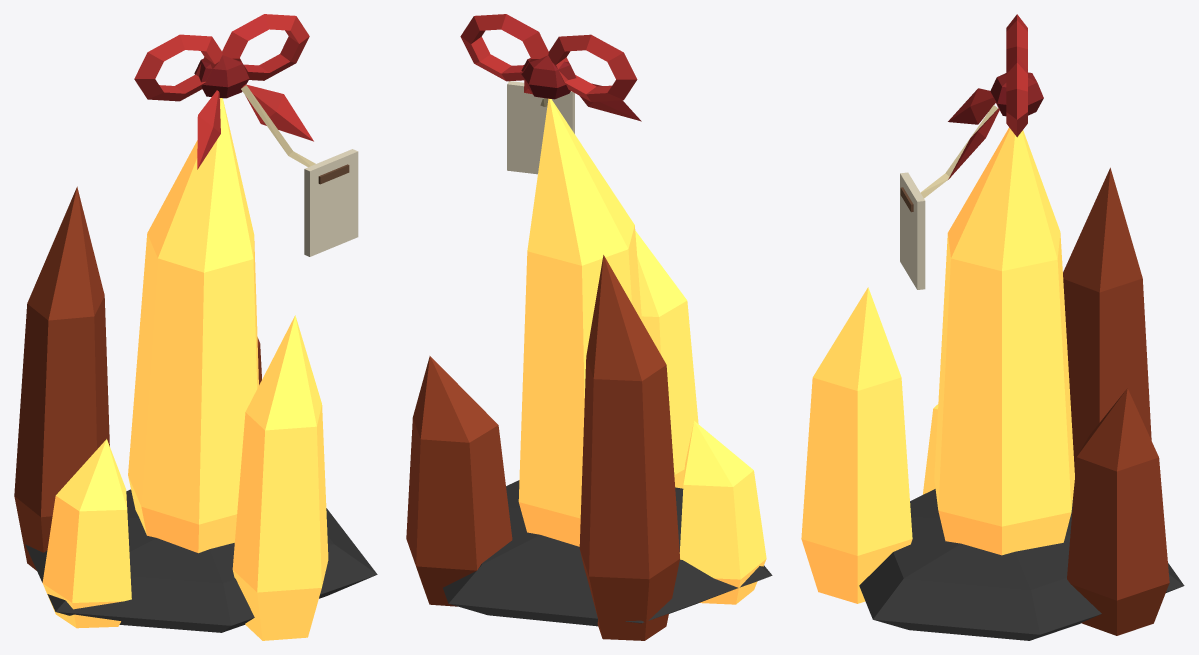
Rendered from quest_fire_crystal.glb.
The picture shows the model from 3 angles, left to right: view 1: azimuth 30°, elevation 25°; view 2: azimuth 150°, elevation 25°; view 3: azimuth 270°, elevation 25°; orthographic projection. The views are drawn at different scales.
Parts seen in each view (by area): view 1: quest_fire_crystal; view 2: quest_fire_crystal; view 3: quest_fire_crystal.
Boxes of the visible parts, x1,y1,x2,y2 form: quest_fire_crystal: (14,14,377,640); quest_fire_crystal: (406,14,772,640); quest_fire_crystal: (801,14,1184,640).
Bounding box in the file's own units: 0.2647 × 0.4573 × 0.2753.
